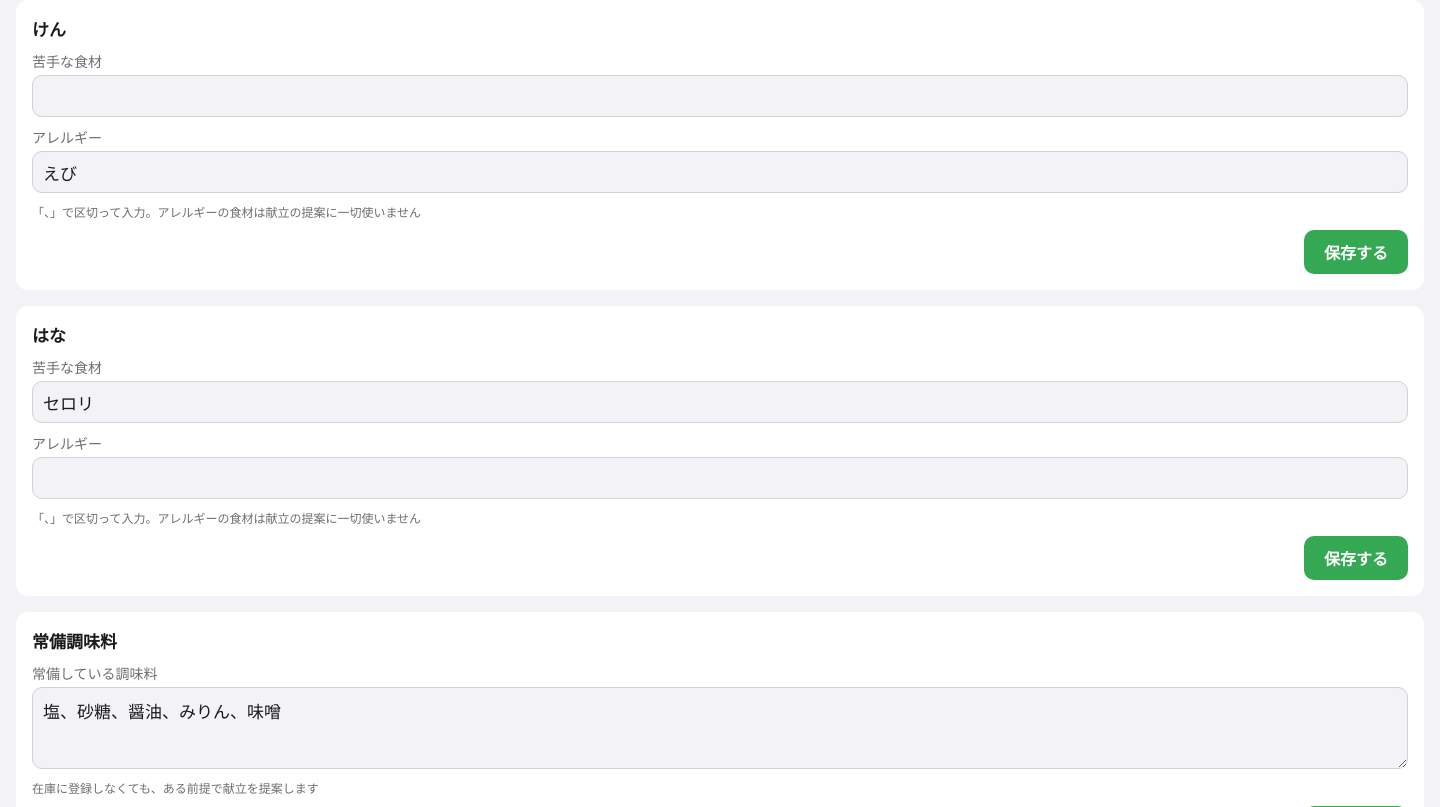
Test case: SettingsScreen › 常備調味料を表示・保存できる
In the text box labelled "常備している調味料": [720, 728] box top-left (32, 687), bottom-right (1408, 769), type "、オイスターソース"
(page scrolled)
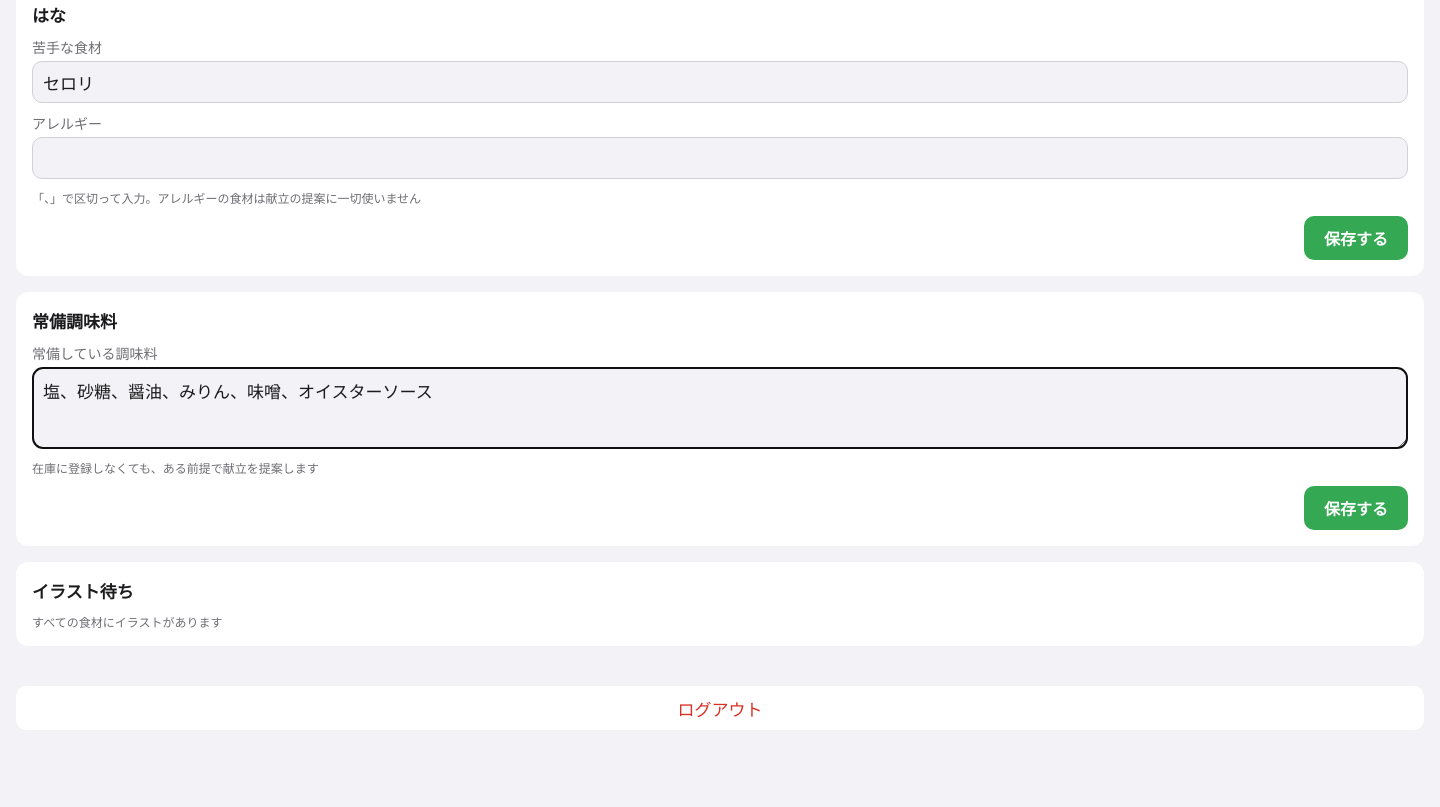
Click the 2nd button "保存する": [1356, 508] box top-left (1304, 486), bottom-right (1408, 530)
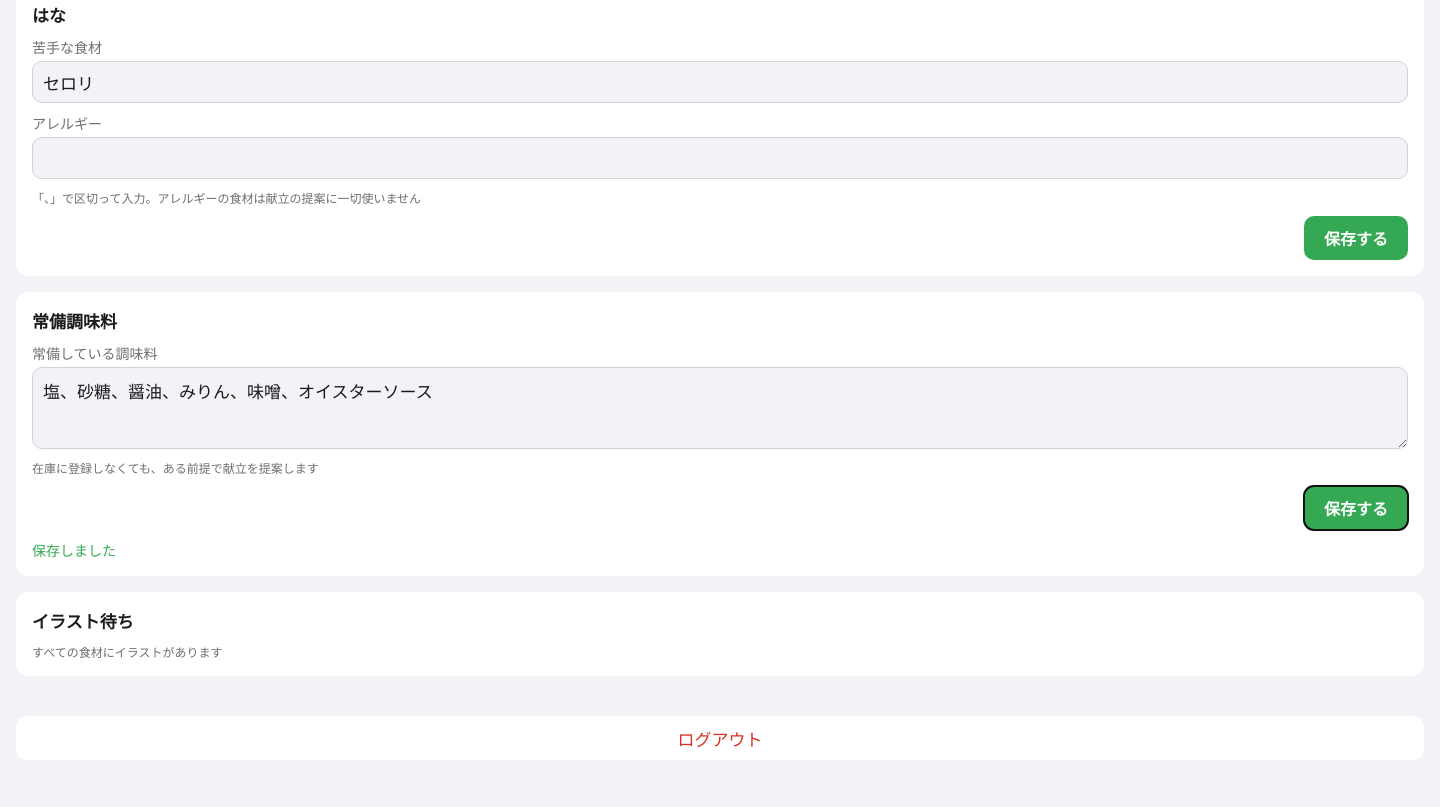
Now the text "保存しました" is shown, box top-left (32, 542), bottom-right (116, 559)
